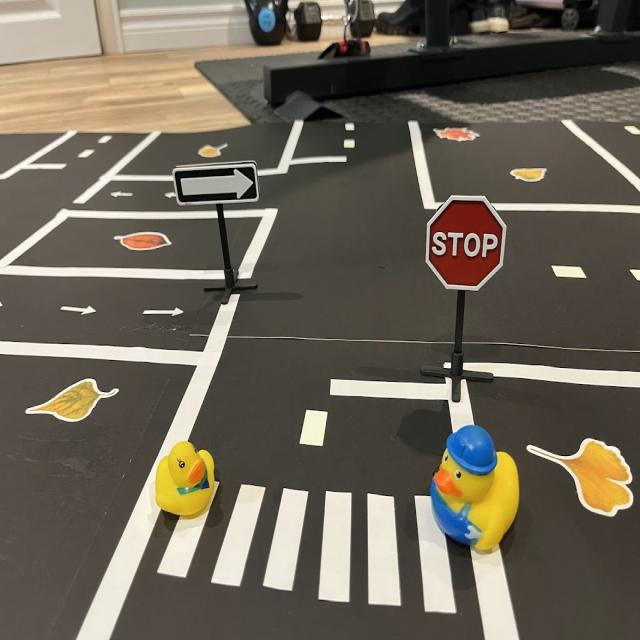duck_regular: (155, 442, 220, 522)
duck_specialty: (431, 422, 522, 557)
road_crosswalk: (143, 477, 467, 620)
road_oneway: (138, 301, 189, 326), (52, 299, 108, 319), (161, 188, 181, 207), (109, 185, 133, 199)
sign_oneway_right: (171, 162, 261, 208)
sign_stop: (426, 197, 508, 297)
